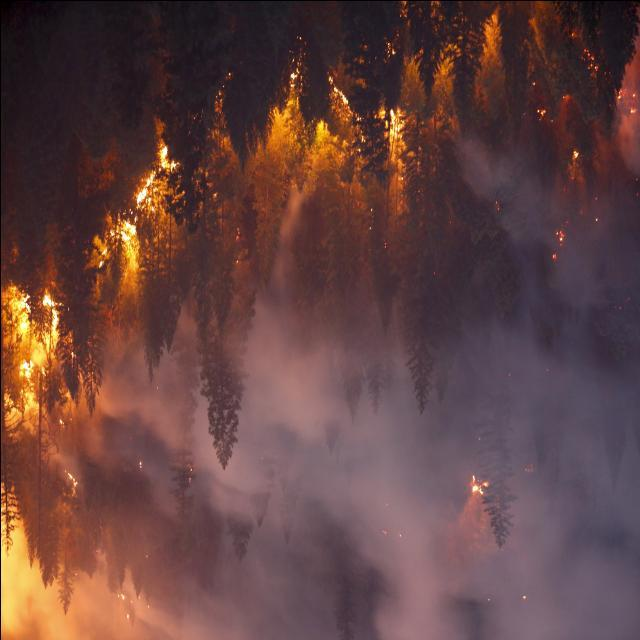Fire: (288, 66, 404, 196), (83, 141, 177, 301), (2, 275, 72, 461)
